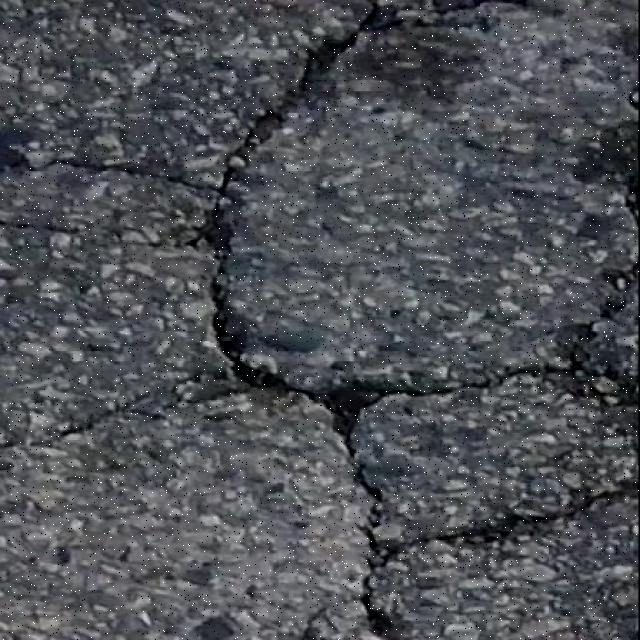Crack: (61, 0, 640, 640), (55, 162, 207, 189), (296, 611, 317, 640), (628, 181, 639, 234), (629, 81, 639, 119), (0, 222, 32, 229), (0, 442, 21, 449)
